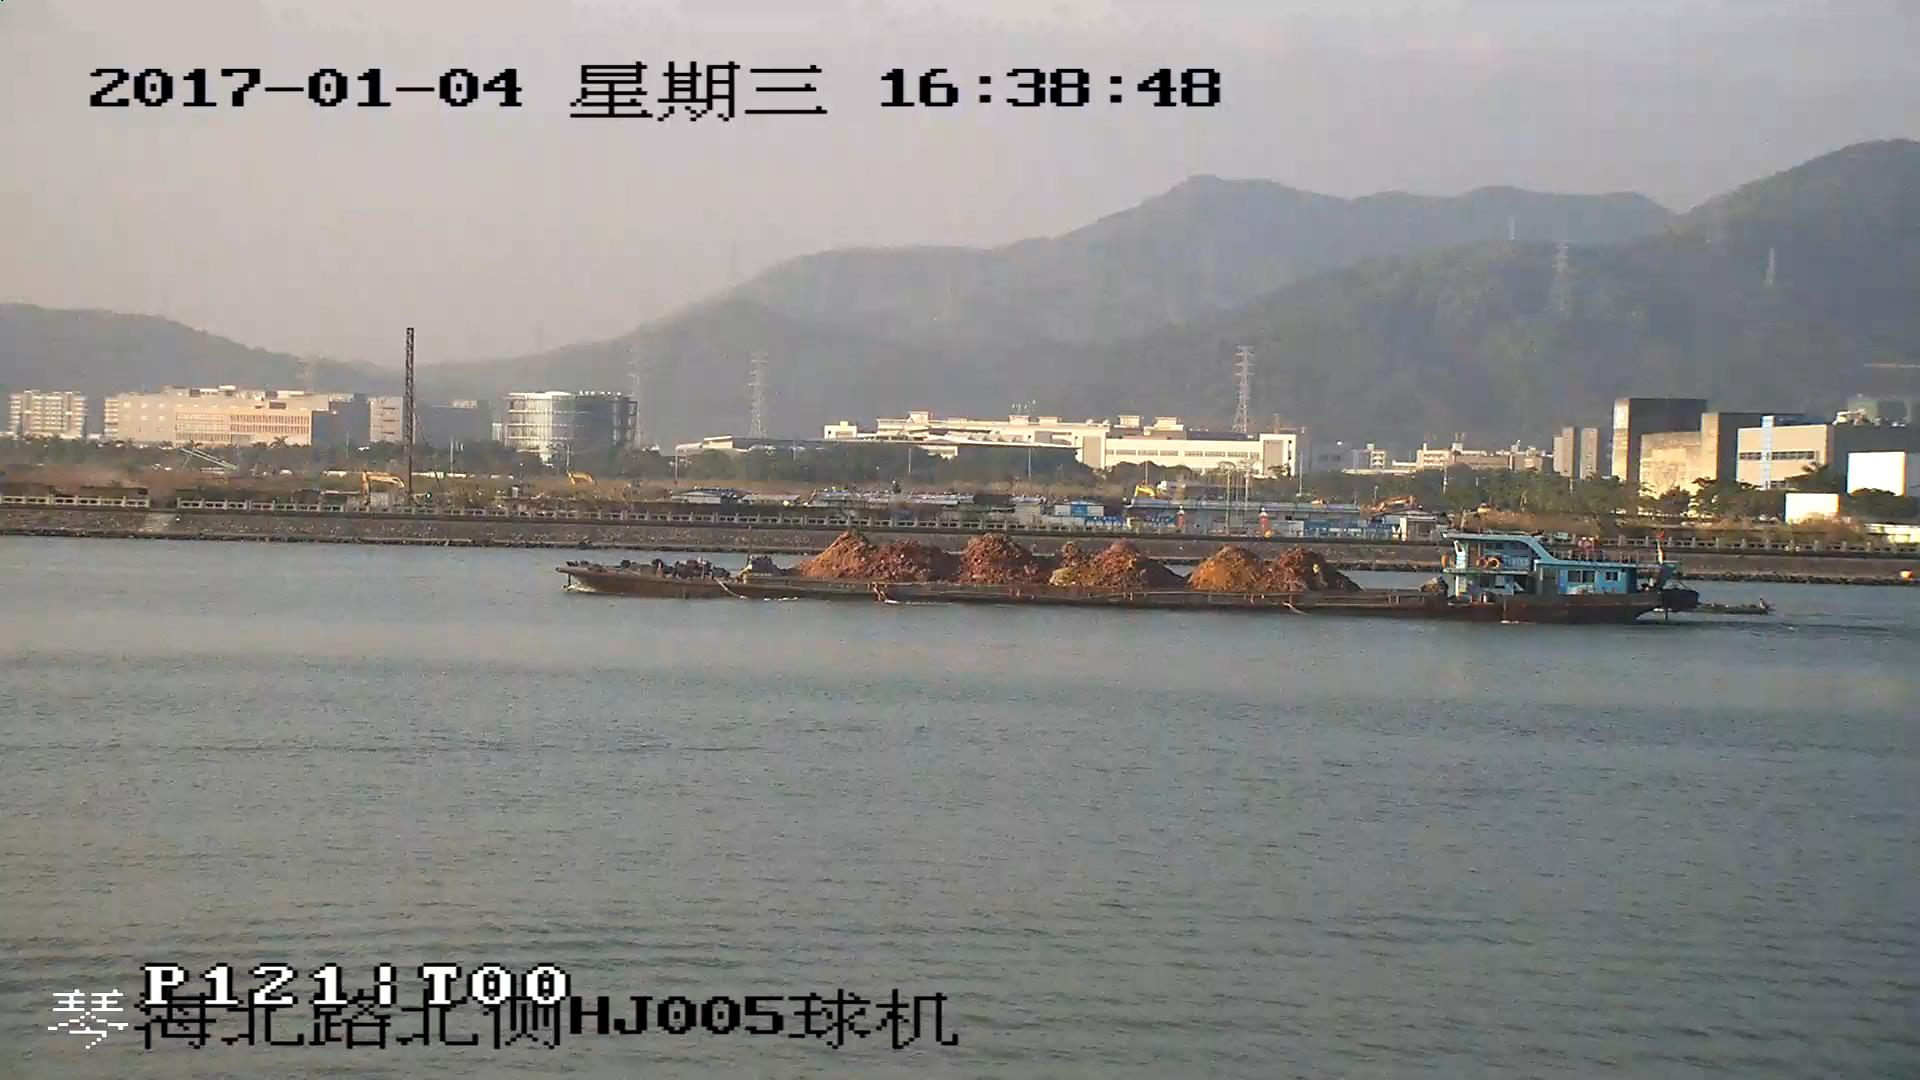ore carrier: (568, 531, 1700, 625)
